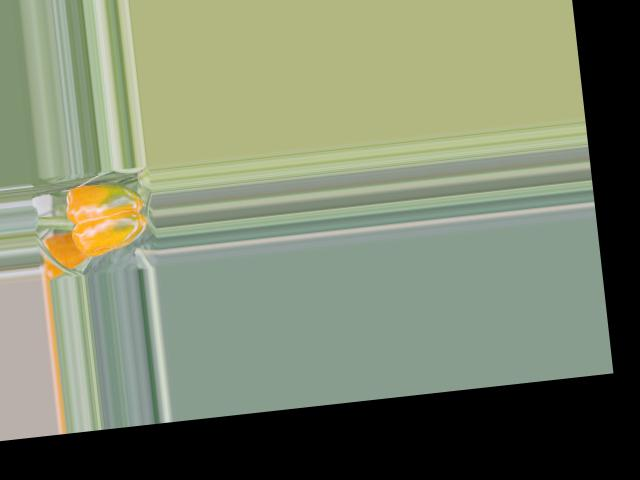bell_pepper: (54, 169, 156, 263)
